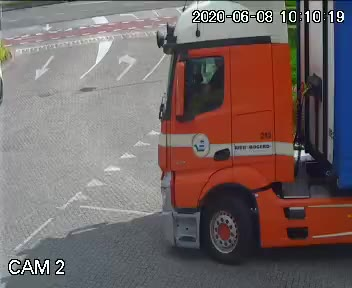car: (148, 0, 352, 261)
